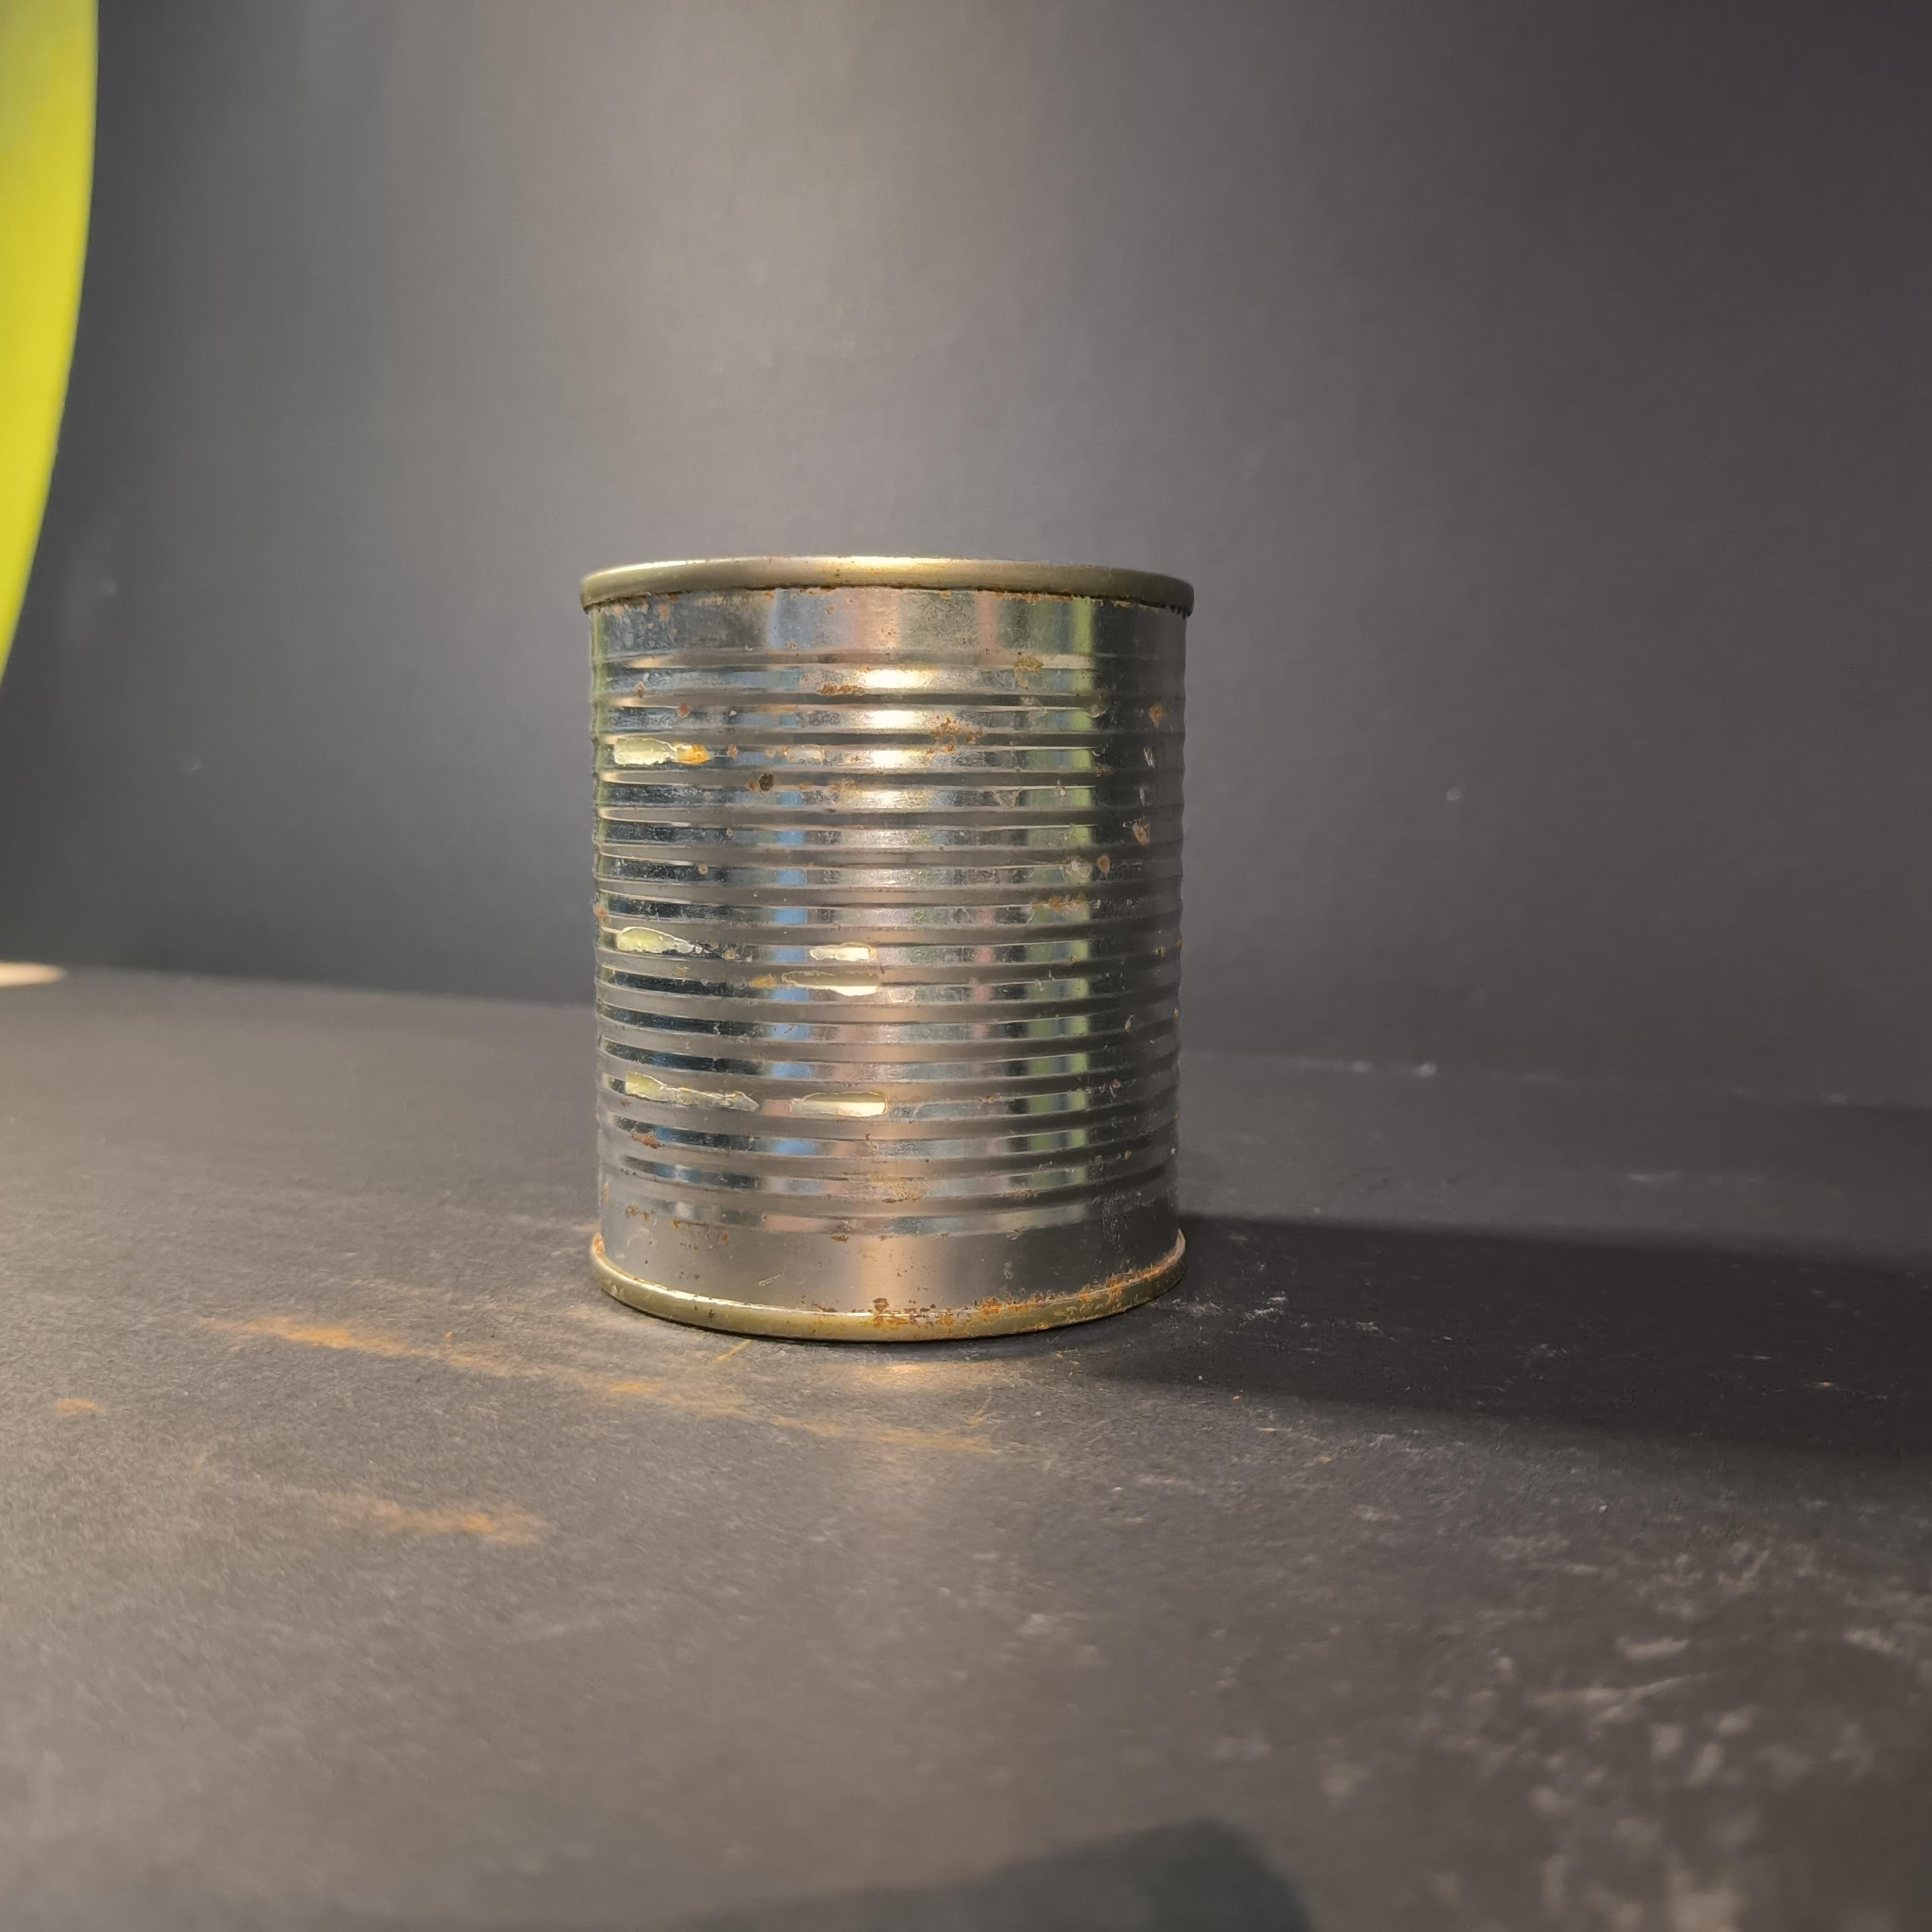Rusted: (573, 524, 1221, 1355)
